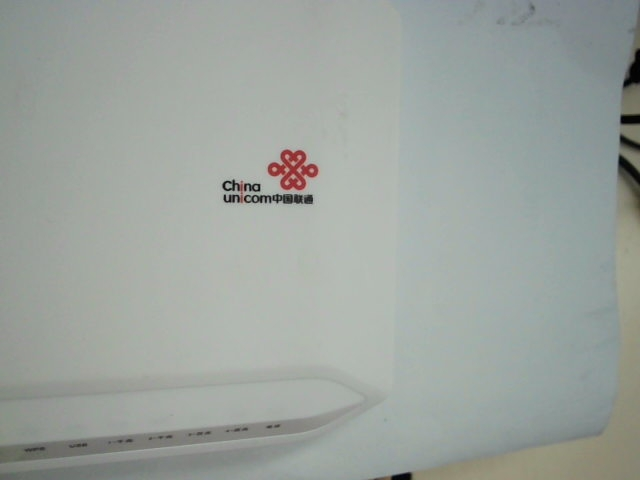AC_ChinaUnicom: (220, 138, 327, 211)
